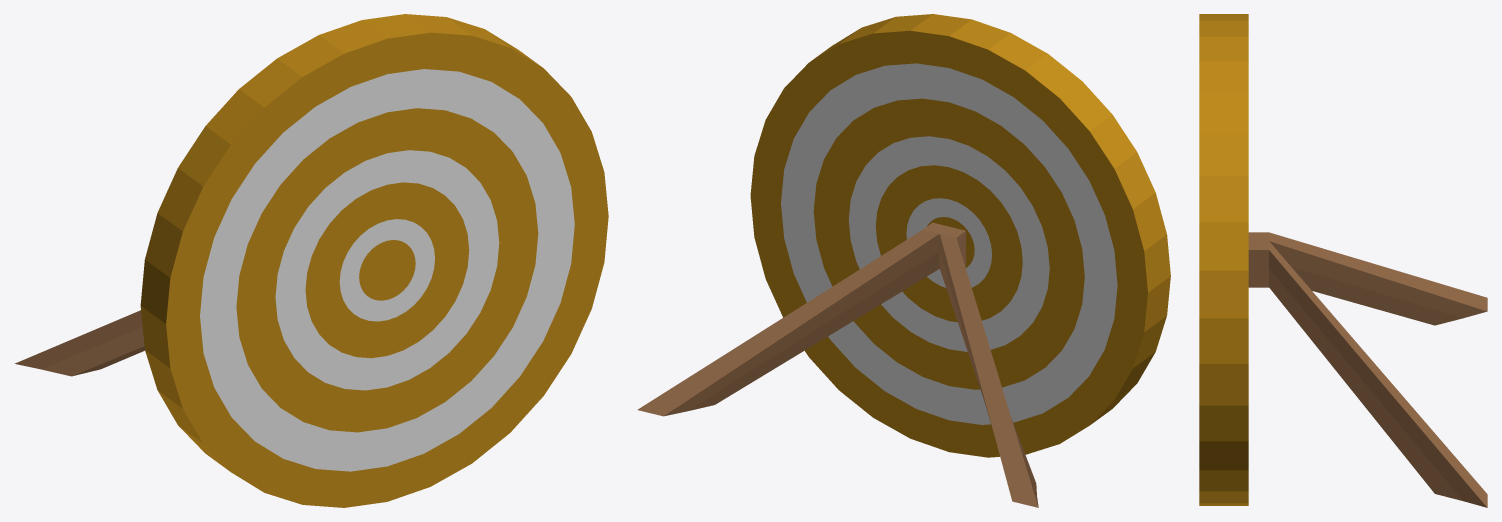
File: TargetGold.fbx
The picture shows the model from 3 angles, left to right: view 1: azimuth 30°, elevation 25°; view 2: azimuth 150°, elevation 25°; view 3: azimuth 270°, elevation 25°; orthographic projection. The views are drawn at different scales.
Parts seen in each view (by area): view 1: Cylinder, Cube; view 2: Cylinder, Cube; view 3: Cylinder, Cube.
Part boxes in pixels (x1,y1,x2,y2): Cylinder: (140,14,608,507); Cube: (14,310,144,376); Cylinder: (750,14,1170,457); Cube: (637,222,1038,507); Cylinder: (1199,14,1248,505); Cube: (1248,232,1487,507).
Bounding box in the file's own units: 202 × 200 × 117.
